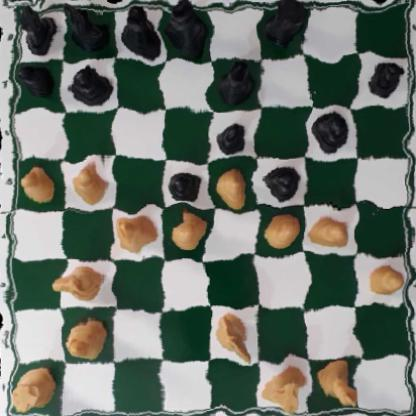black-bishop: (121, 4, 164, 61), (219, 58, 256, 109)
black-king: (166, 0, 207, 56)
black-knight: (67, 1, 107, 54)
black-pawn: (363, 56, 406, 100), (72, 62, 115, 105), (314, 109, 347, 151), (215, 121, 252, 155), (266, 163, 299, 199), (169, 169, 202, 205), (19, 60, 50, 98)
black-rook: (13, 0, 59, 54), (266, 0, 307, 47)
white-bishop: (66, 311, 106, 361), (115, 207, 153, 253)
white-king: (313, 357, 361, 411)
white-knight: (52, 265, 106, 302), (216, 309, 253, 361)
white-pawn: (306, 211, 353, 249), (69, 164, 108, 202), (211, 168, 249, 205), (260, 210, 298, 246), (364, 264, 403, 299), (19, 168, 56, 203), (171, 208, 204, 247)
white-rook: (7, 365, 59, 415), (264, 363, 304, 412)
